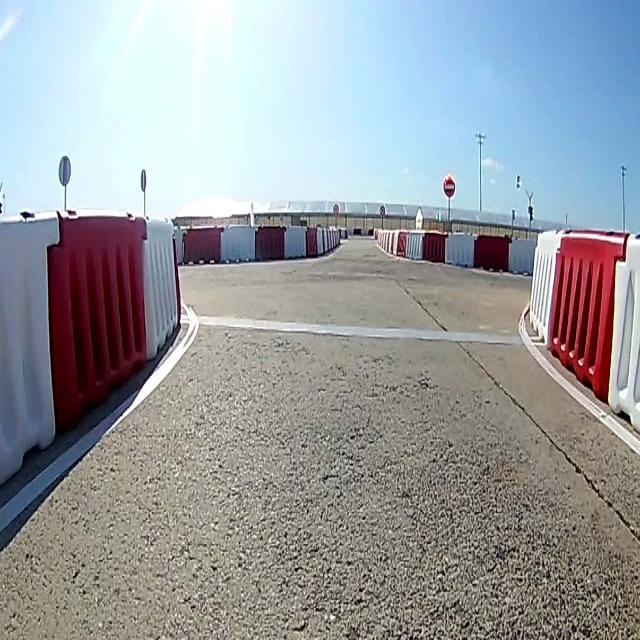girisyok: (442, 172, 456, 200)
